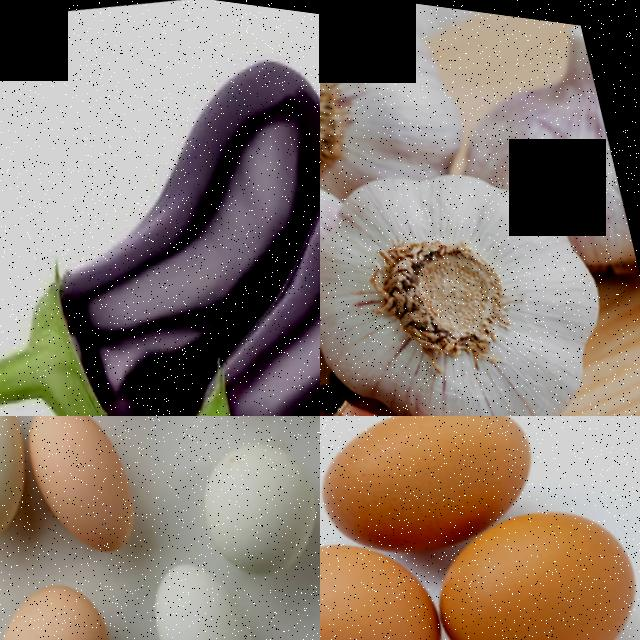egg_: (418, 470, 640, 640), (320, 416, 549, 554), (184, 416, 320, 582), (320, 505, 457, 640), (15, 416, 145, 557), (134, 527, 269, 640), (0, 555, 129, 640), (0, 416, 43, 549)
eggplant: (98, 66, 320, 416), (0, 106, 206, 416)
garlic: (320, 114, 626, 416), (320, 0, 471, 204), (322, 374, 435, 416)
